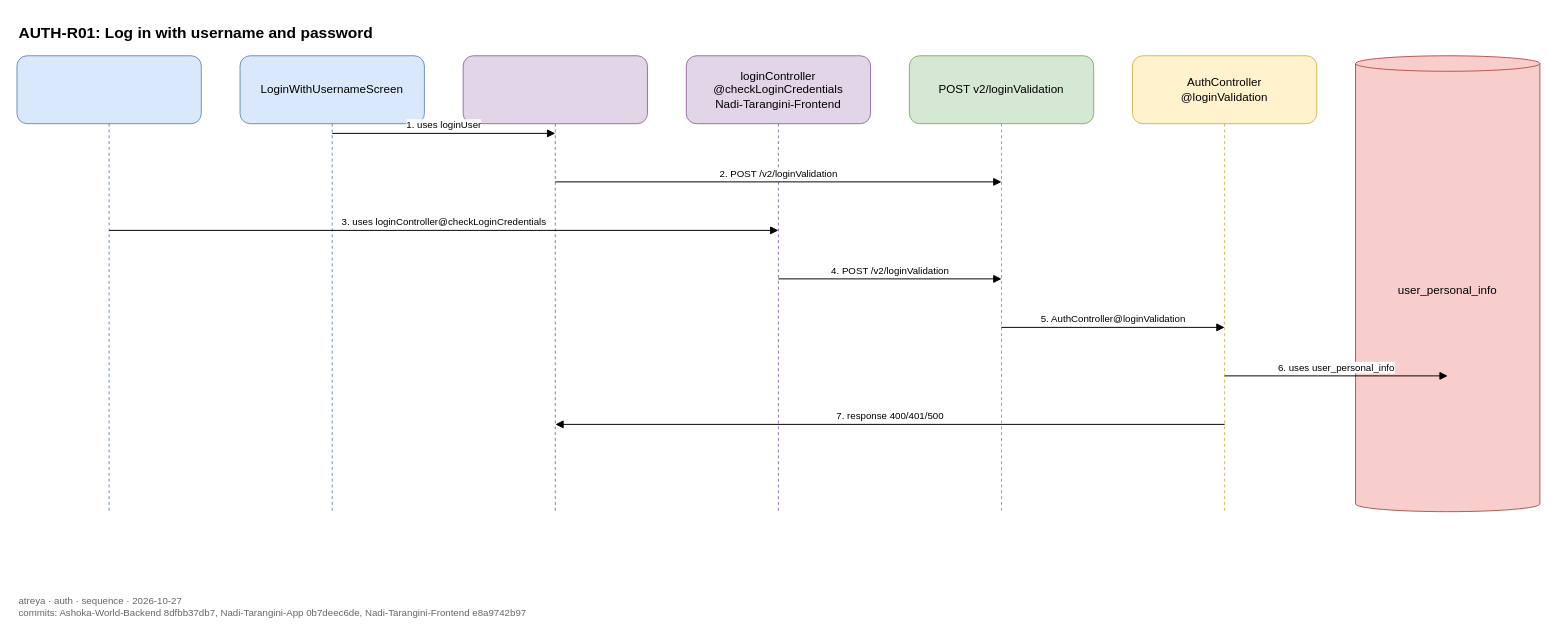
This 1557x640 diagram has some shape labels left out. The box of each missing label's shape, as (x1, y1, x2, y2) in pixels:
auth.login: (16, 55, 201, 512)
loginUser Nadi-Tarangini-App: (462, 55, 647, 512)
